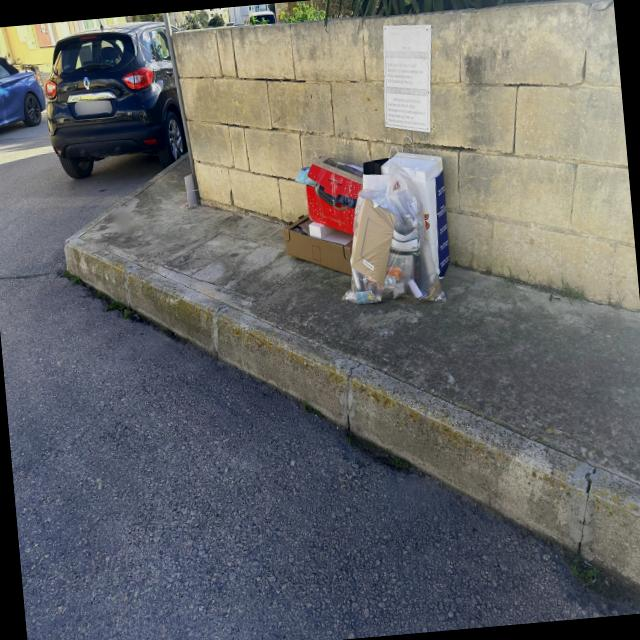grey_bag: (345, 164, 438, 314)
other_waste: (276, 155, 364, 279)
